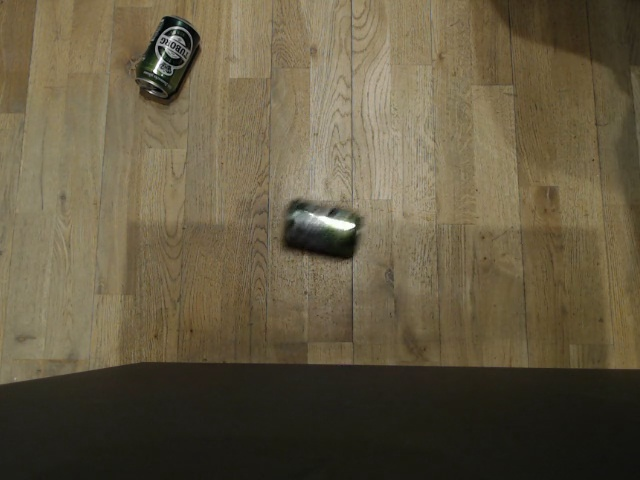beer: (132, 13, 202, 100), (280, 196, 363, 260)
